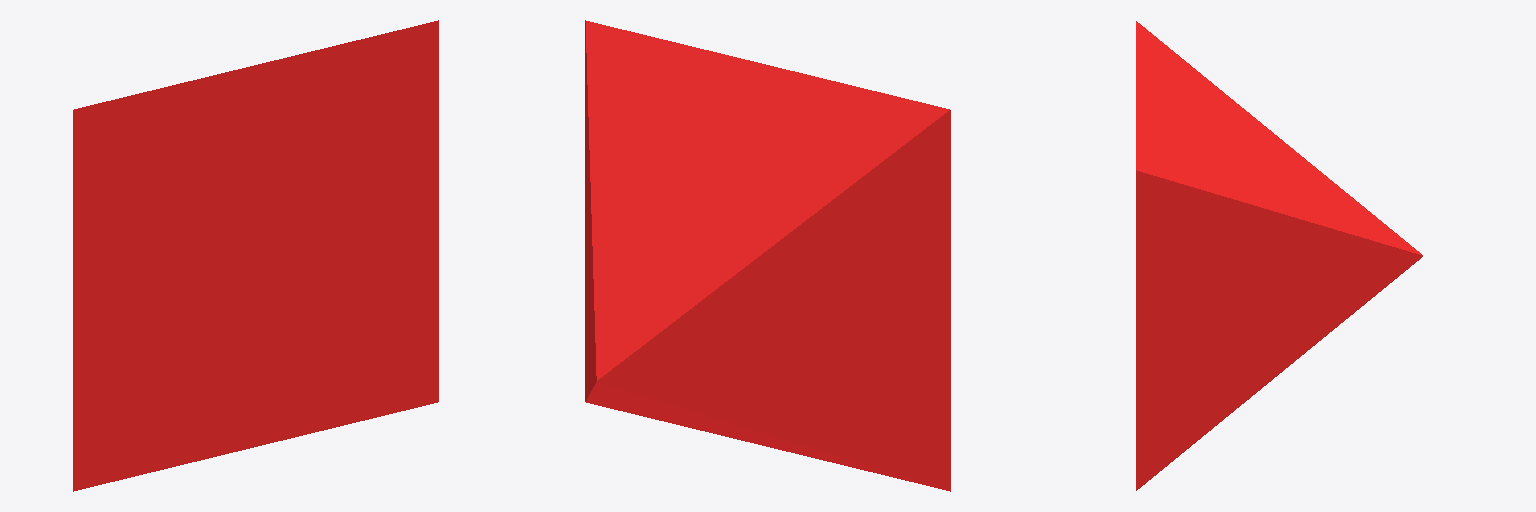
The robot description file, URDF, robot "urdf_robot":
<?xml version="0.0" ?>
<robot name="urdf_robot">
  <link name="baseLink">
  	<contact>
      <rolling_friction value="0.03"/>
      <spinning_friction value="0.03"/>
    </contact>

    <inertial>
      <origin rpy="0 0 0" xyz="0 0 0"/>
       <mass value="0.0"/>
       <inertia ixx="0" ixy="0" ixz="0" iyy="0" iyz="0" izz="0"/>
    </inertial>
    <visual>
      <origin rpy="0 0 0" xyz="0 -0.5 0"/>
      <geometry>
				<mesh filename="Pyramid Icon obj.obj" scale="0.5 0.5 0.5"/>      
      </geometry>
      <material name="red">
        <color rgba="1 0.2 0.2 1"/>
        <specular rgb="1 1 1"/>
      </material>
    </visual>
    <!-- <collision>
      <origin rpy="0 0 0" xyz="0 0 0"/>
      <geometry>
	 <sphere radius="0.5"/>
      </geometry>
    </collision> -->
  </link>
</robot>

--- What the picture shows (computed from the rendered views, not written in the file) ---
Views: 3 orthographic renders of the robot side by side, from view 1: azimuth 30°, elevation 25°; view 2: azimuth 150°, elevation 25°; view 3: azimuth 270°, elevation 25°.
Robot: urdf_robot — 1 links, 0 joints (none); root link baseLink; default pose: every joint at zero.
Links seen in each view (by area): view 1: baseLink; view 2: baseLink; view 3: baseLink.
Boxes of the visible links, x1=… form: baseLink: x1=73, y1=20, x2=438, y2=491; baseLink: x1=585, y1=20, x2=950, y2=491; baseLink: x1=1136, y1=21, x2=1422, y2=490.
Size in the robot's own frame: 1 by 0.813 by 1 metres.
1 mesh visuals loaded from 1 distinct referenced files (1 OBJ).